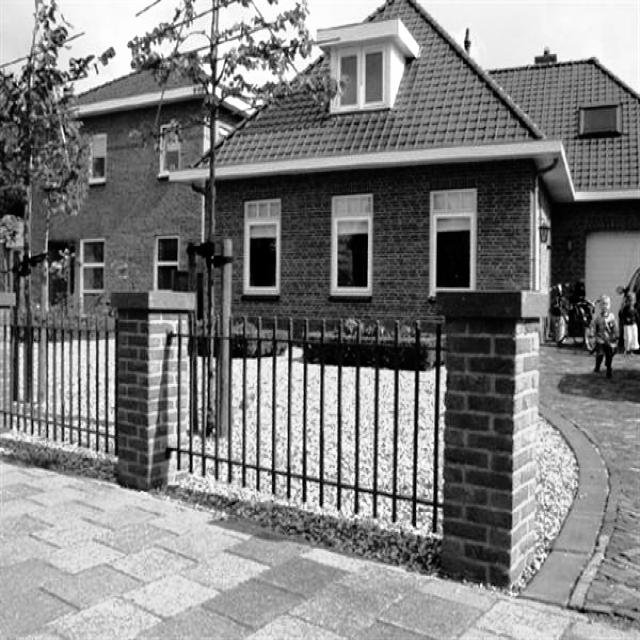fences: (178, 326, 447, 516), (6, 321, 114, 444)
